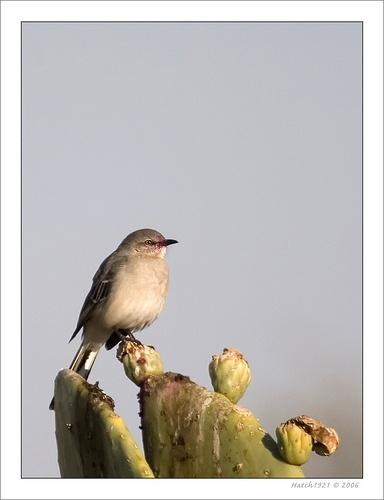bird: (49, 227, 180, 412)
